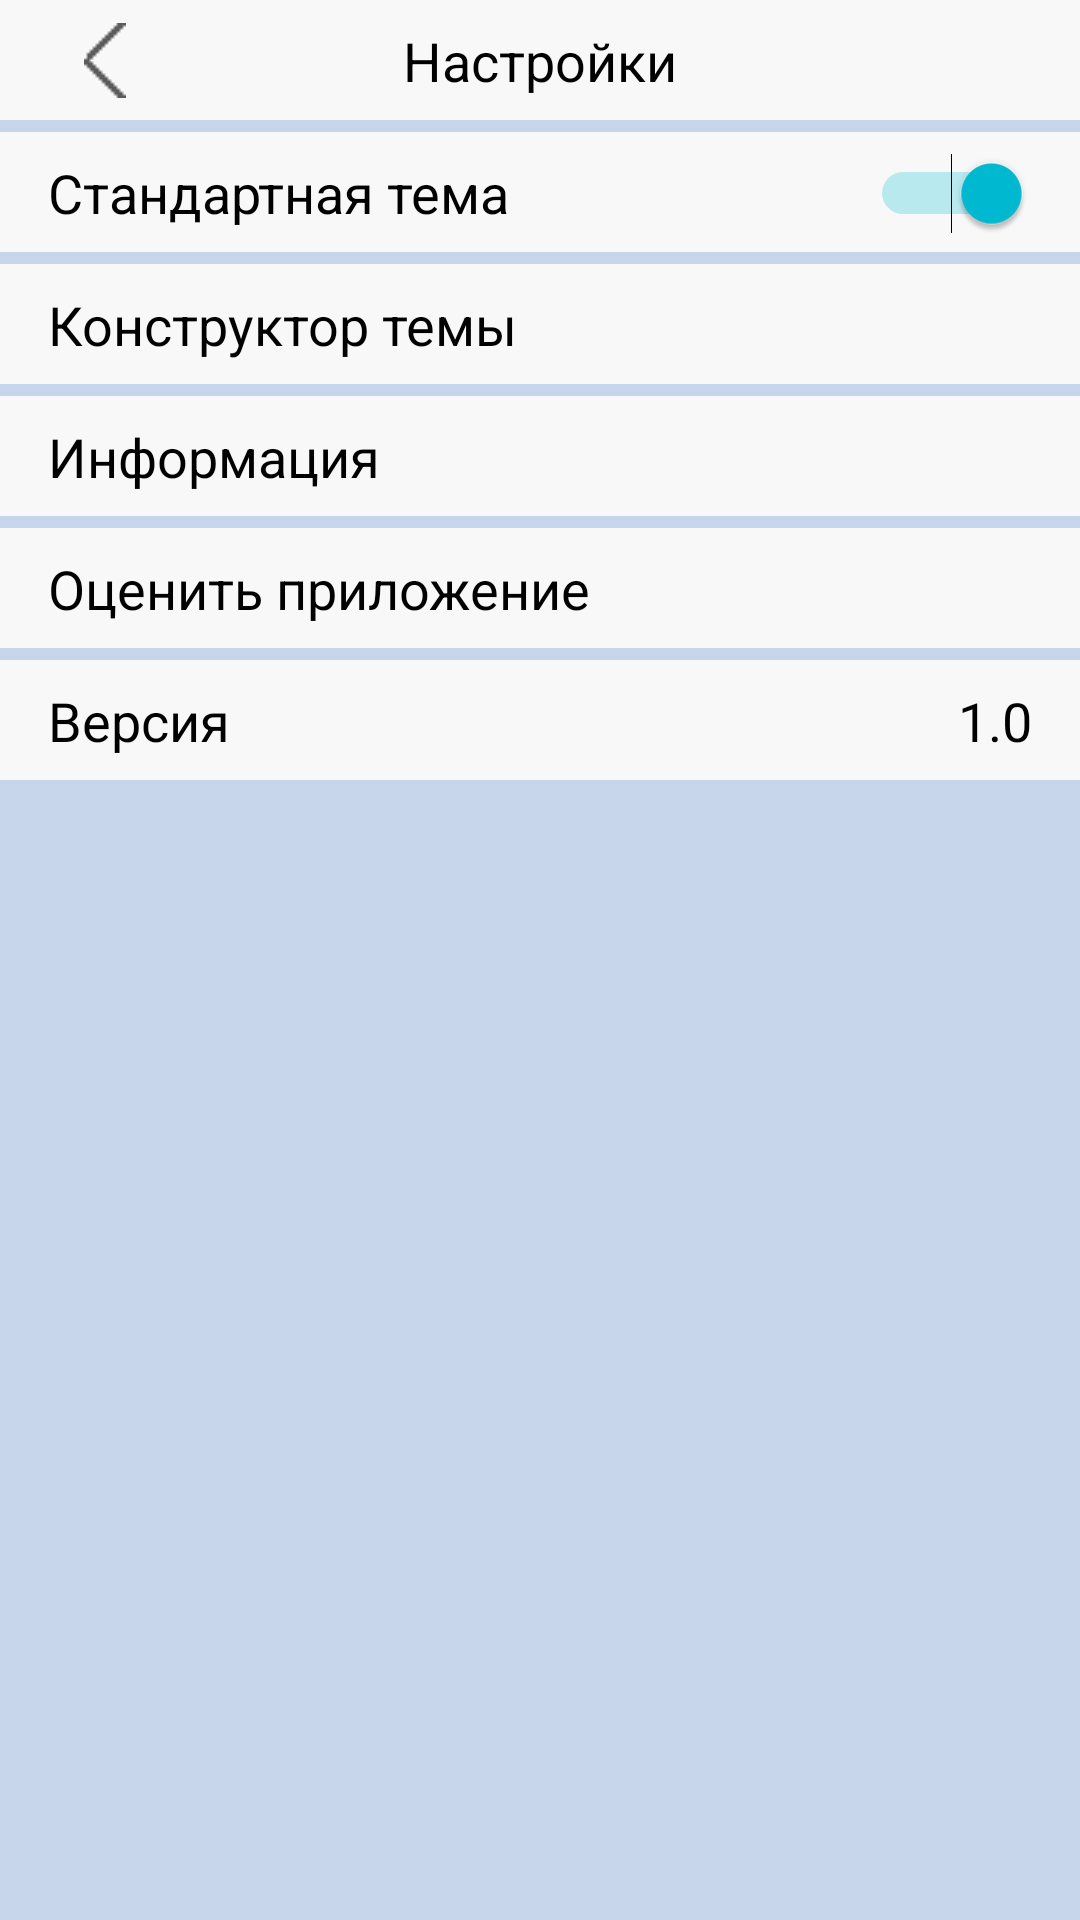

Where to tap for icons on this 1080px x 1920px app screen, as (x,y):
left str: (105,60)
